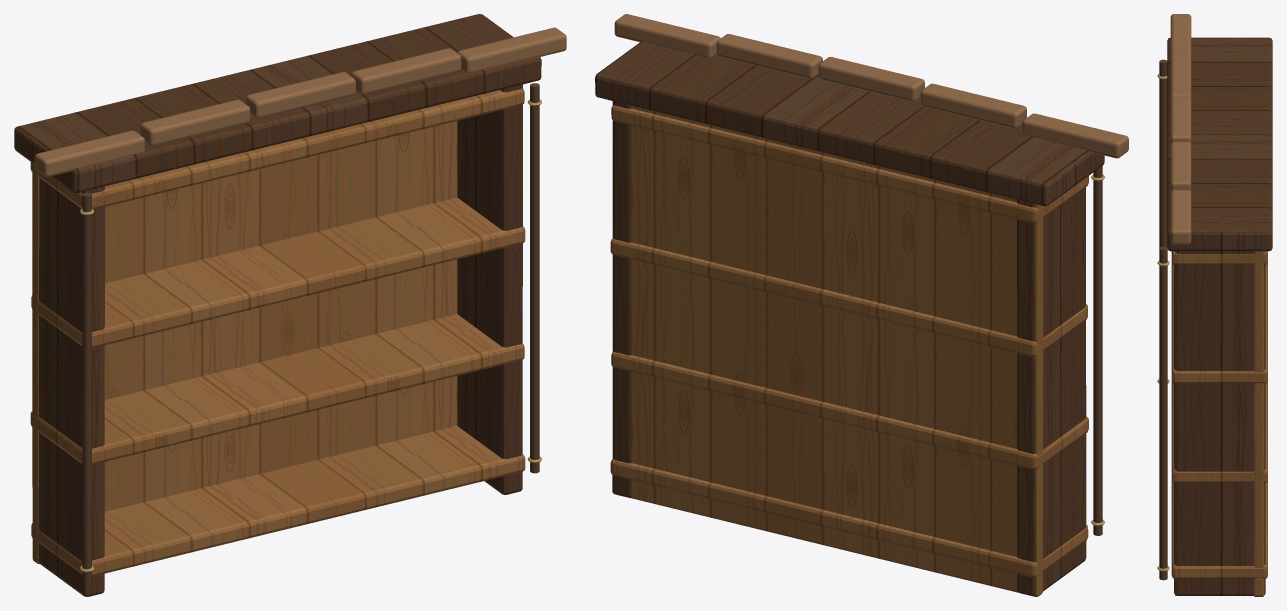
Rendered from SM_HH_Q3_HerbShelf.fbx.
3 renders of one model, left to right at view 1: azimuth 30°, elevation 25°; view 2: azimuth 150°, elevation 25°; view 3: azimuth 270°, elevation 25°, orthographic. The views are drawn at different scales.
Parts seen in each view (by area): view 1: HH_Q3_HerbShelf; view 2: HH_Q3_HerbShelf; view 3: HH_Q3_HerbShelf.
Part boxes in pixels (x1=…): HH_Q3_HerbShelf: x1=14, y1=14, x2=566, y2=596; HH_Q3_HerbShelf: x1=595, y1=14, x2=1128, y2=596; HH_Q3_HerbShelf: x1=1157, y1=14, x2=1272, y2=596.
Bounding box in the file's own units: 0.503 × 2.25 × 1.88.
